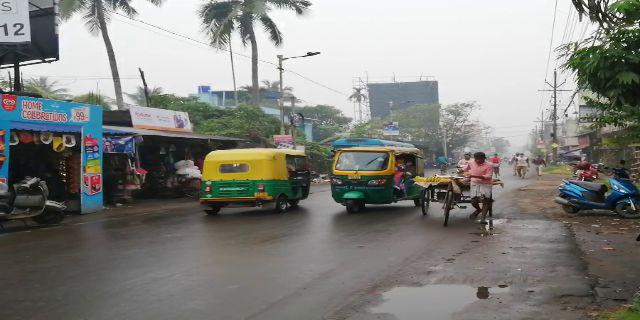Autorickshaw: (205, 149, 315, 212), (335, 149, 417, 214)
Van: (421, 168, 499, 223)
